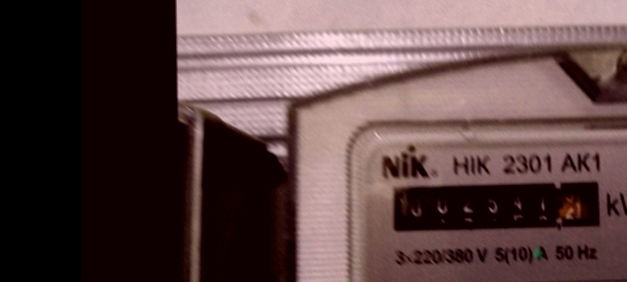0: (406, 193, 424, 219), (433, 189, 448, 216)
1: (533, 186, 547, 213)
2: (457, 189, 474, 214)
4: (509, 187, 523, 210)
5: (482, 187, 501, 216)
6: (561, 202, 576, 220)
screen: (379, 168, 613, 242)
